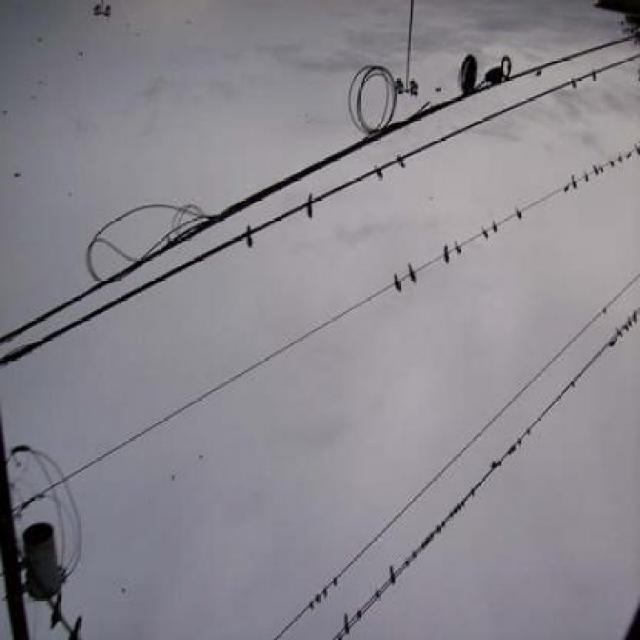pole: (0, 442, 85, 632)
